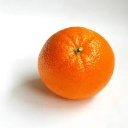orange: (36, 25, 117, 102)
